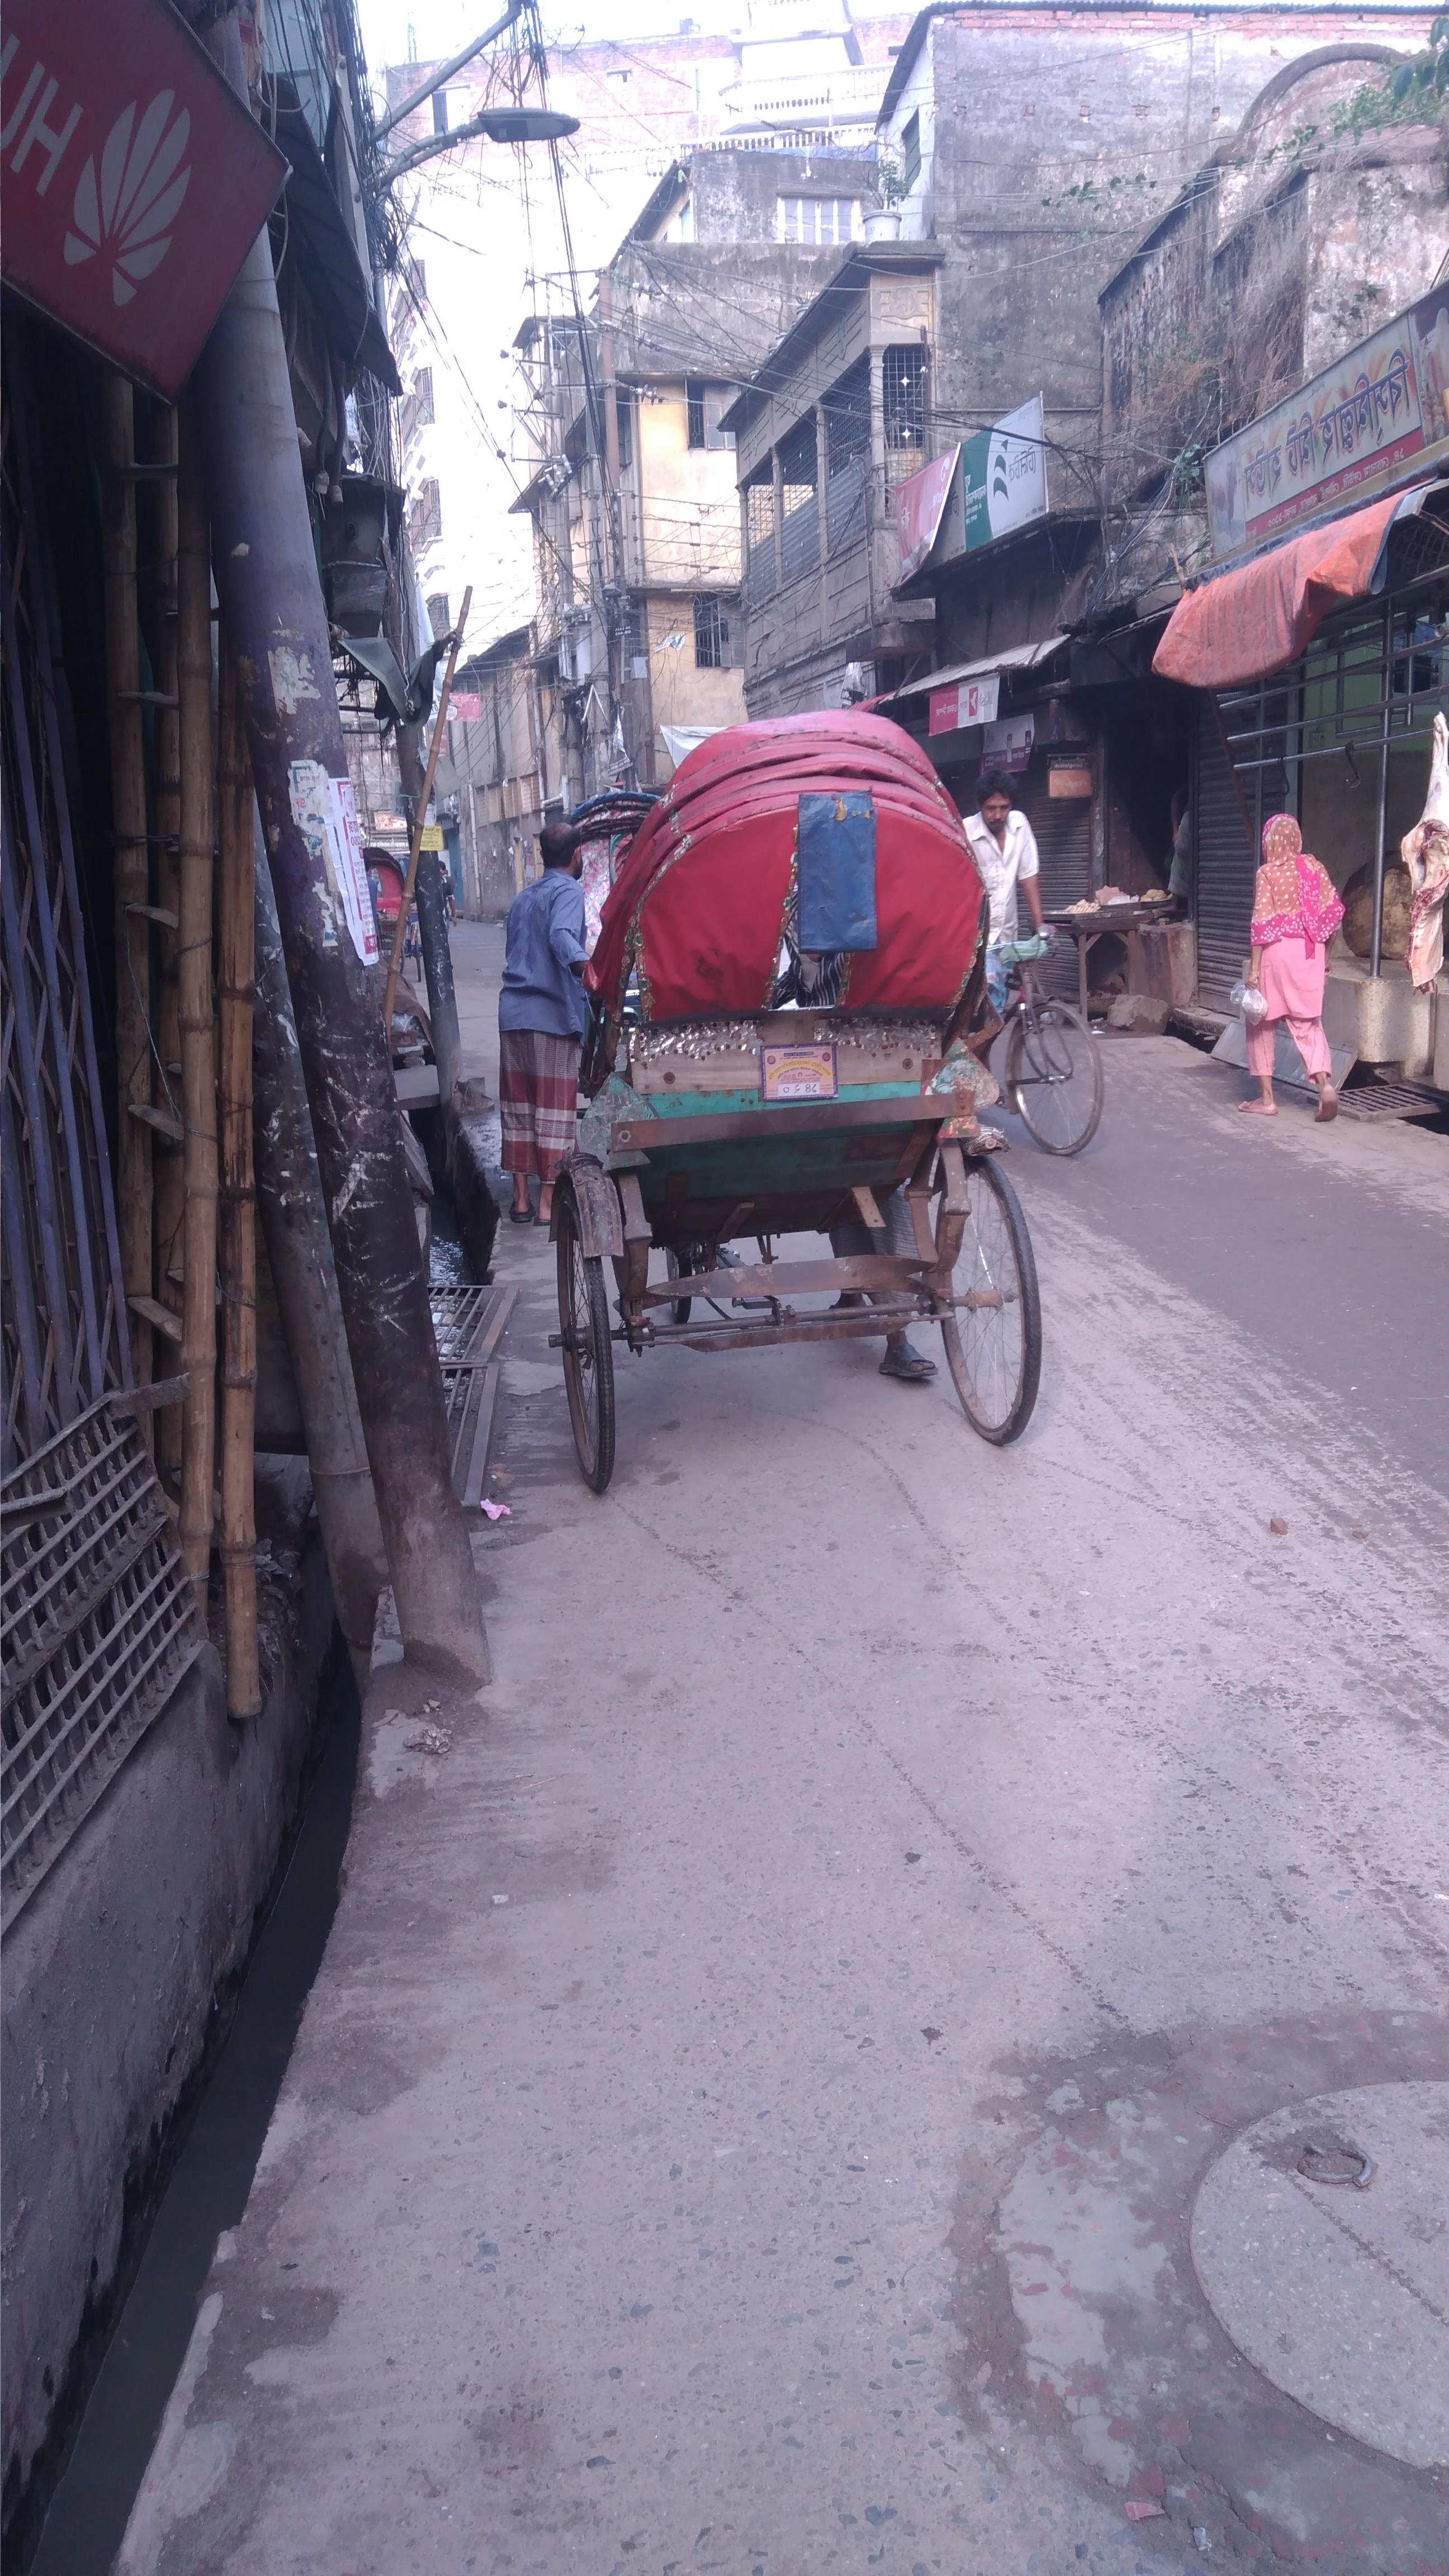Rickshaw: (561, 671, 1062, 1481)
